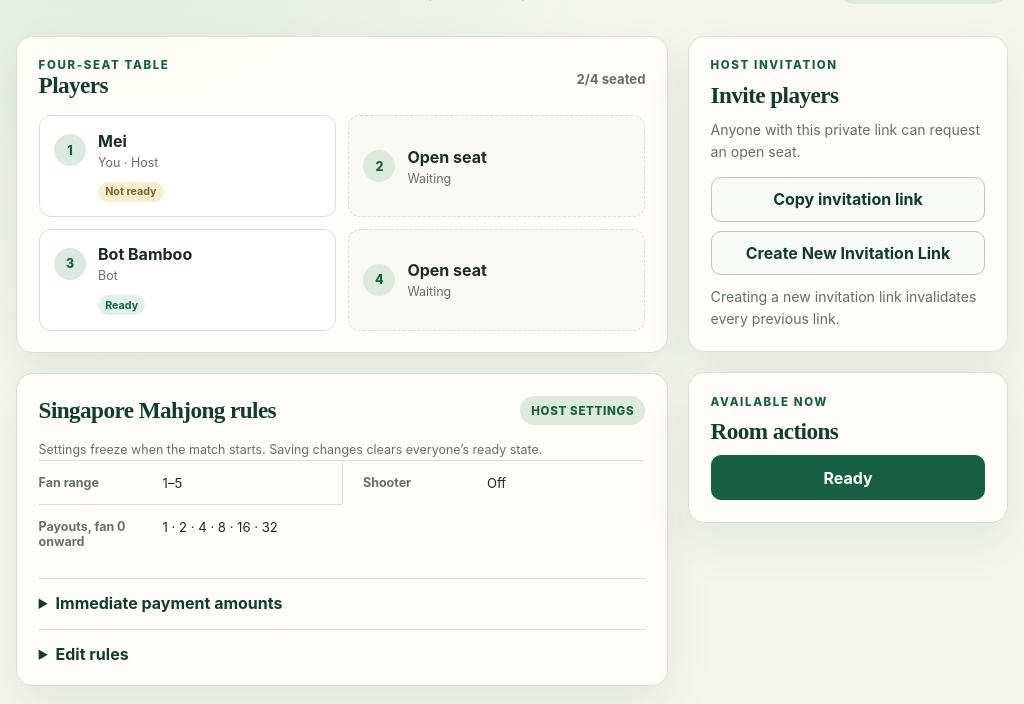
Test: room UI › lets the host save core rules through the revisioned config endpoint
(page scrolled)
What coordinates should you click on to do the following:
click the heading "Edit rules"
I would click on:
 (92, 654)
Its box is [56, 644, 129, 664].
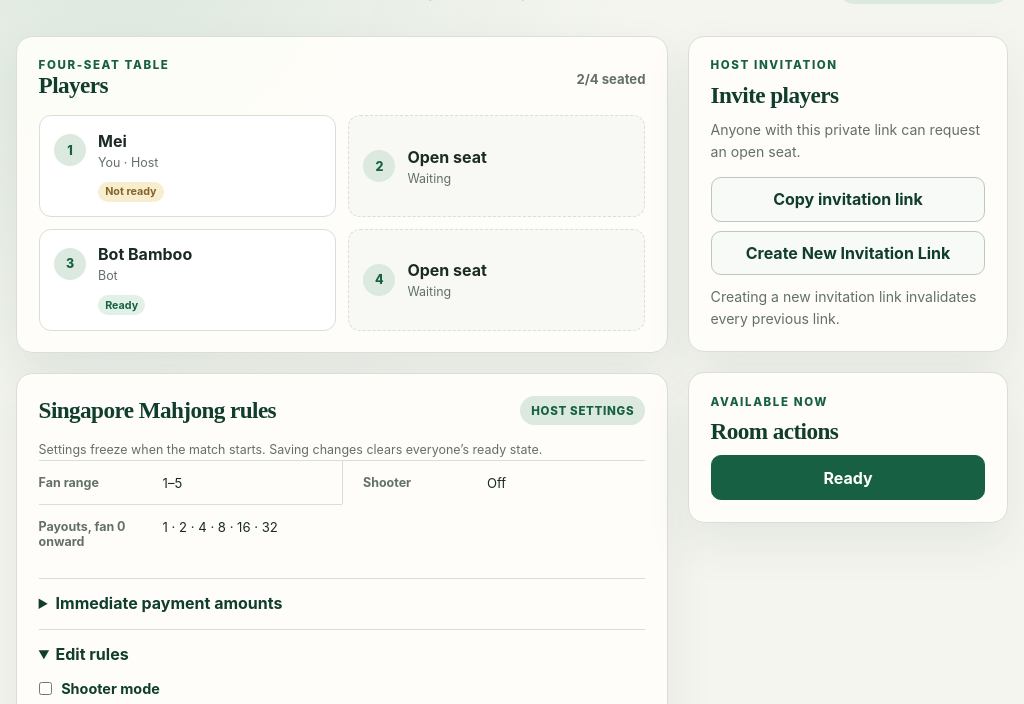
What coordinates should you click on to do the following:
click the checkbox labelled "Shooter mode"
I would click on:
 (45, 688)
Its box is [39, 682, 52, 695].
(page scrolled)
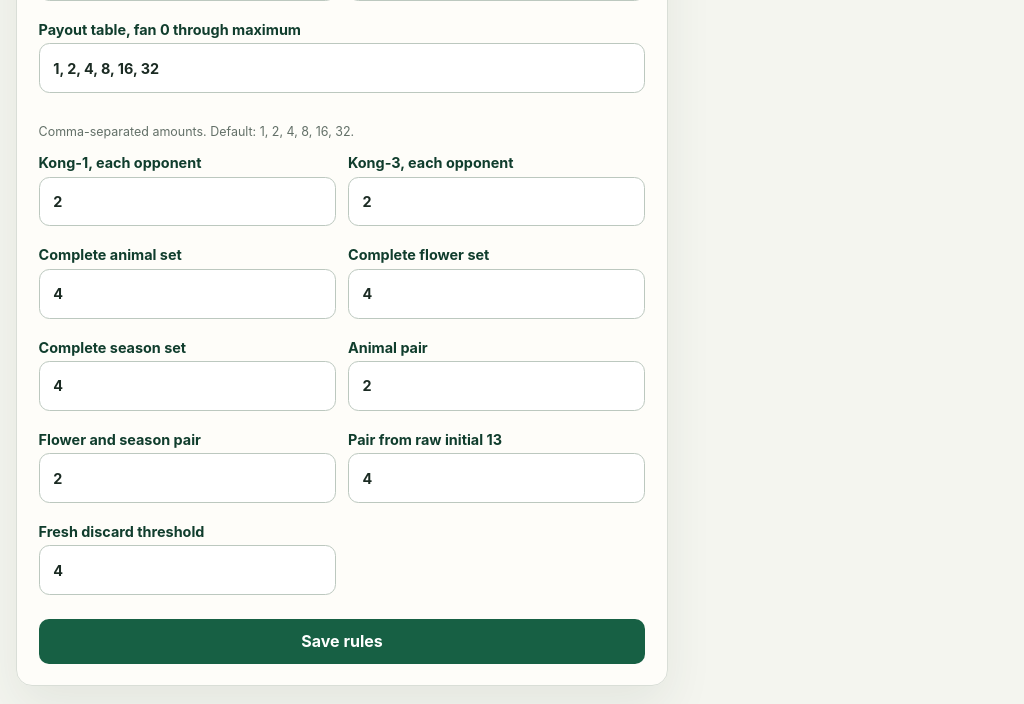
What coordinates should you click on to do the following:
click the button "Save rules"
I would click on:
 (342, 642)
Its box is [39, 619, 645, 664].
(page scrolled)
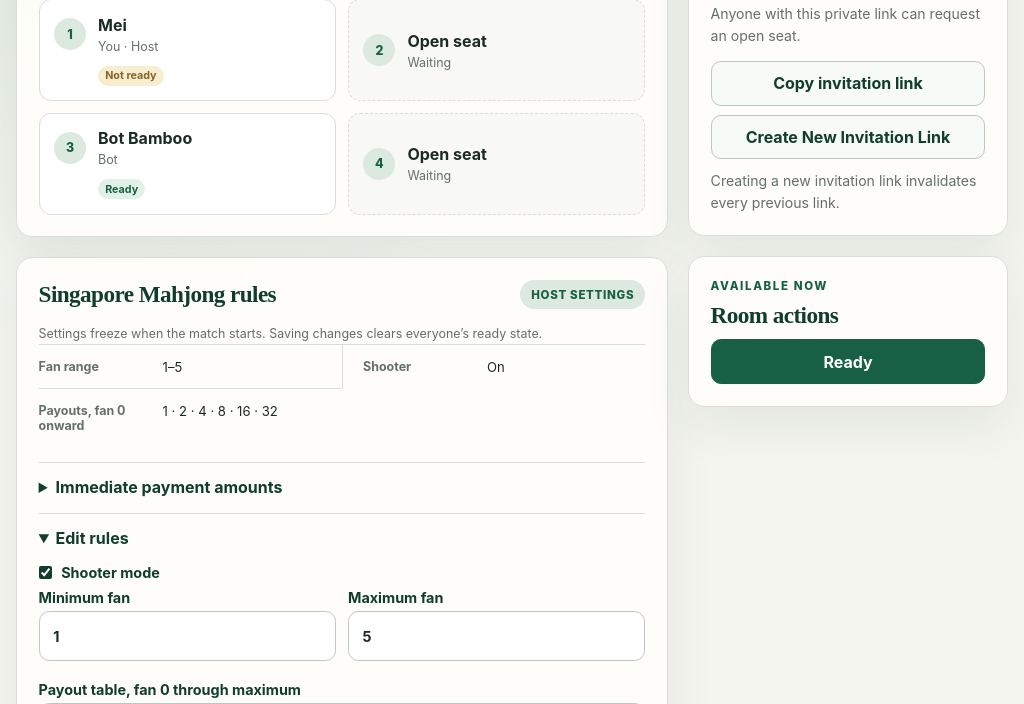
Expected: the text "On" is shown, [487, 359, 505, 375]
